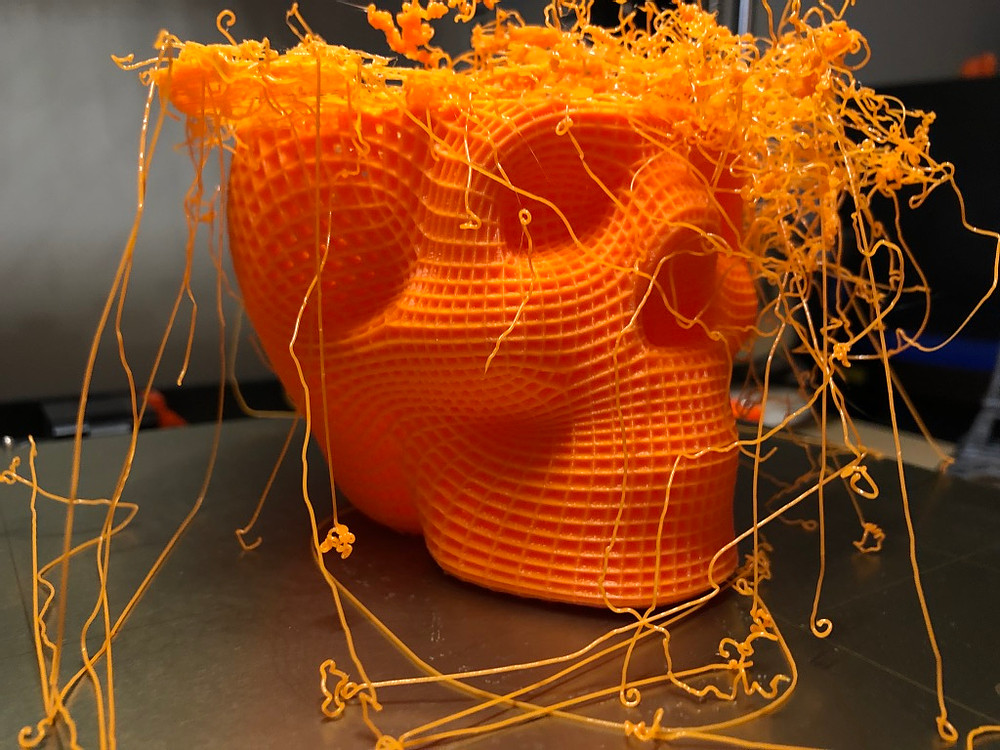Fail: (85, 3, 968, 642)
